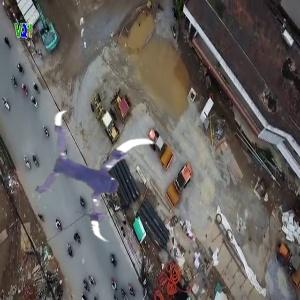drone: (34, 115, 163, 244)
